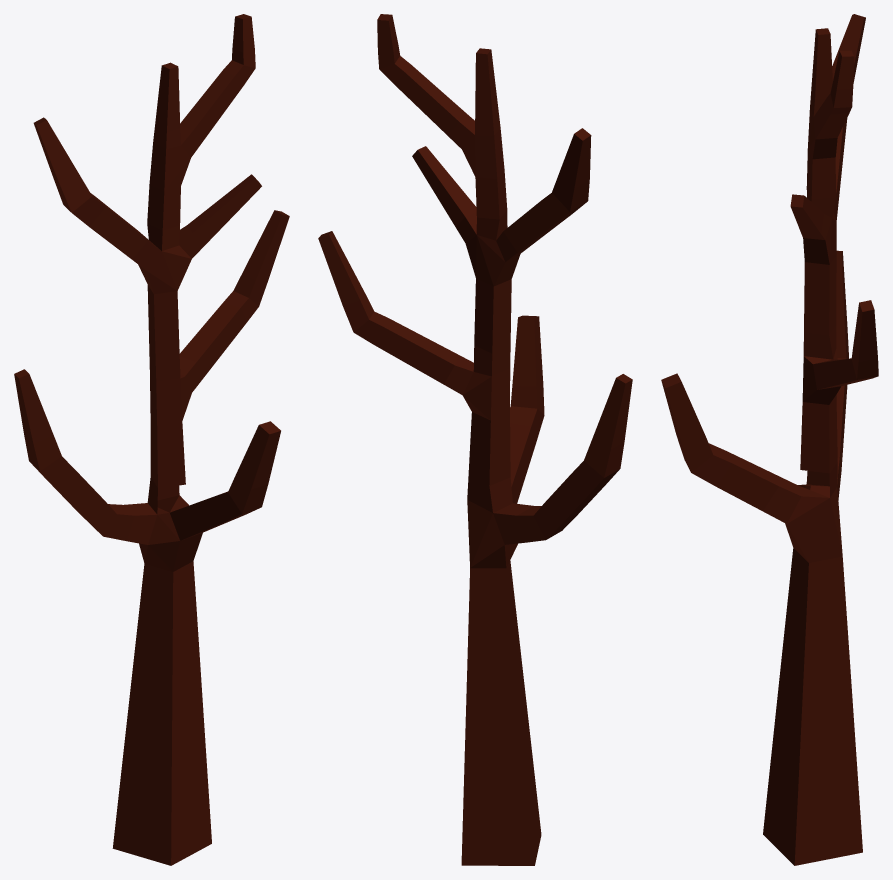
The model's file is tree2.obj.
The picture shows the model from 3 angles, left to right: view 1: azimuth 30°, elevation 25°; view 2: azimuth 150°, elevation 25°; view 3: azimuth 270°, elevation 25°; orthographic projection. The views are drawn at different scales.
Parts seen in each view (by area): view 1: Cube; view 2: Cube; view 3: Cube.
Part boxes in pixels (bbox=[...]): Cube: bbox=[14, 14, 289, 865]; Cube: bbox=[318, 14, 632, 865]; Cube: bbox=[661, 14, 878, 865].
Size of the model in its own units: 1.48 by 3.94 by 0.9216.
